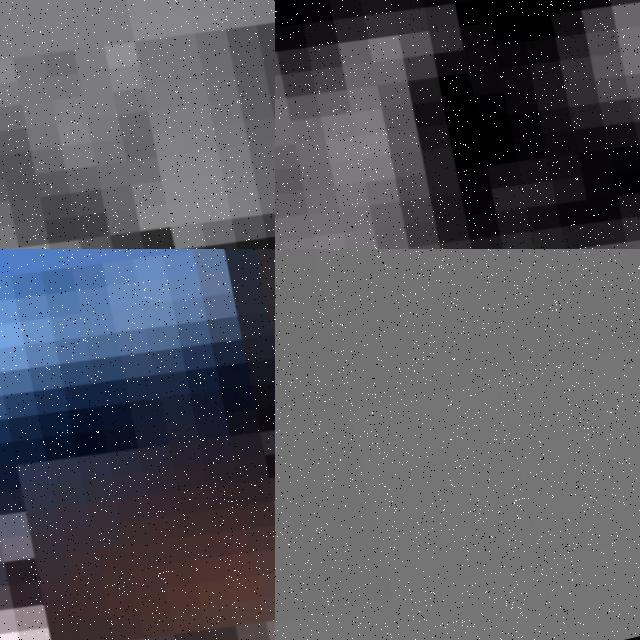drone: (0, 249, 275, 640), (275, 0, 640, 249), (0, 0, 275, 249)
